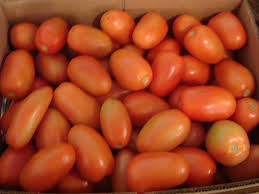tomato: (66, 127, 115, 177), (131, 109, 189, 148), (128, 153, 191, 185), (111, 48, 154, 92), (101, 94, 135, 148), (55, 83, 97, 125), (67, 59, 112, 97), (179, 87, 230, 117), (4, 52, 36, 97), (149, 53, 183, 95), (129, 11, 171, 45), (72, 21, 109, 57), (210, 120, 246, 156)
